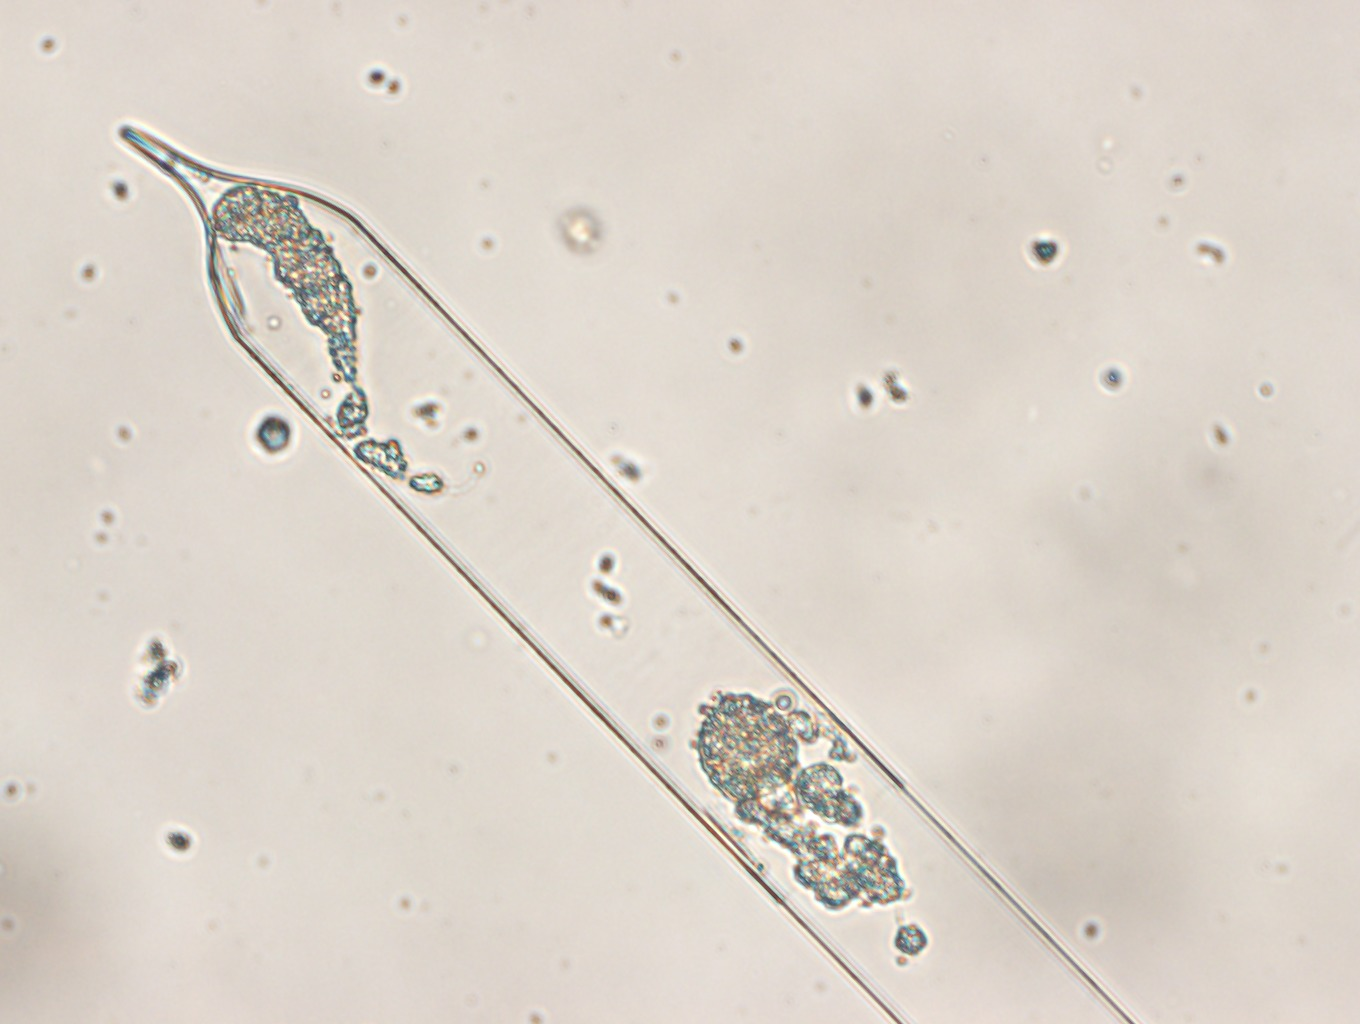rhizosolenia: (115, 124, 1132, 1024)
